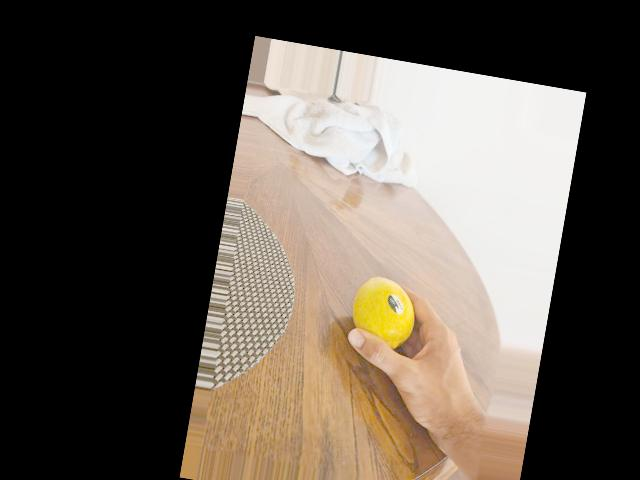lemon: (346, 272, 420, 355)
